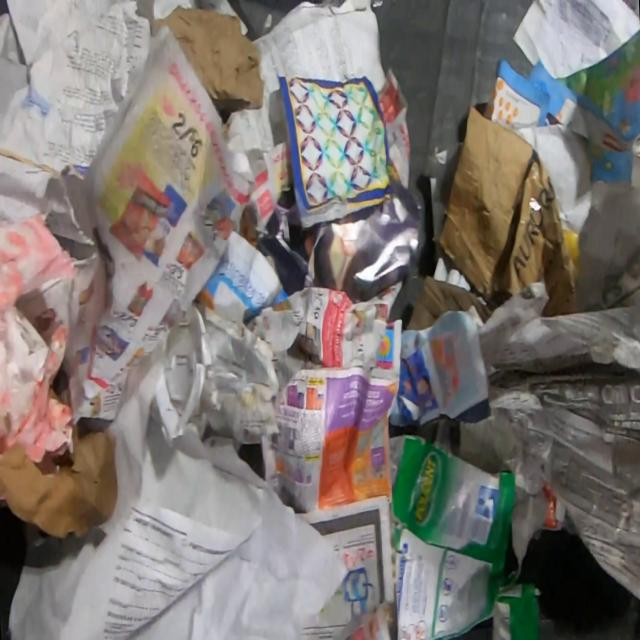cardboard: (389, 433, 543, 640), (430, 102, 577, 317), (0, 420, 119, 543), (151, 5, 265, 124), (404, 272, 494, 331)
